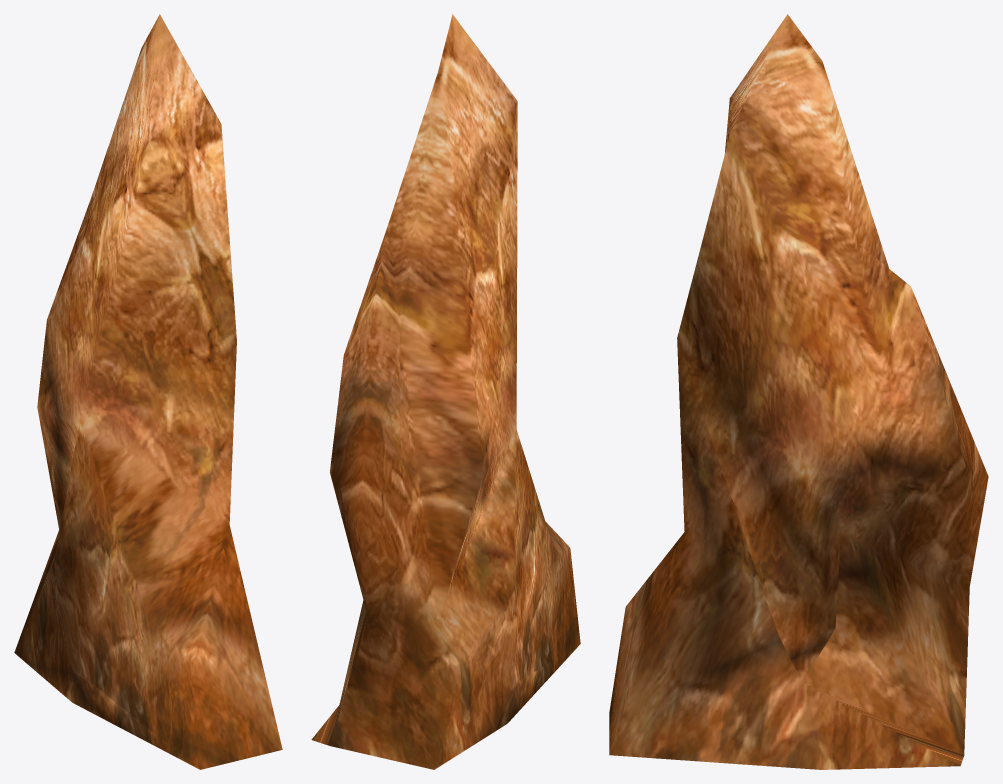
The model's file is redridgerock02.obj.
3 views of the same model, side by side, from view 1: azimuth 30°, elevation 25°; view 2: azimuth 150°, elevation 25°; view 3: azimuth 270°, elevation 25° (orthographic). The views are drawn at different scales.
Size of the model in its own units: 2.92 by 11.75 by 5.6.
Materials: 1 (1 with a texture image).
